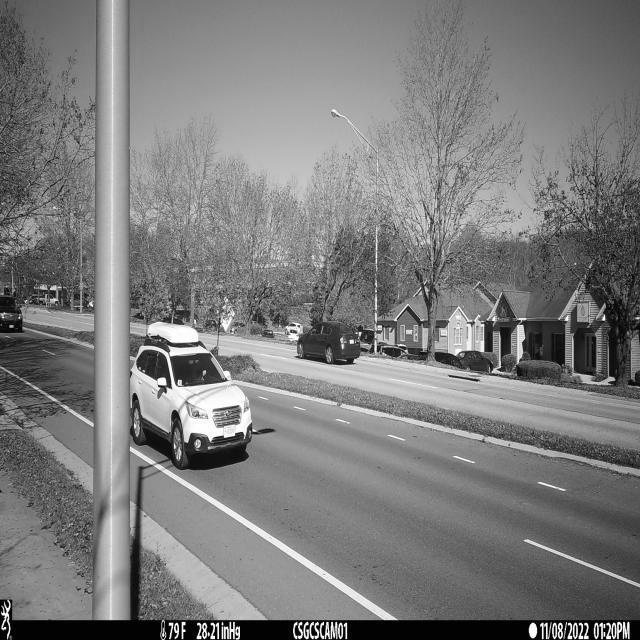SUV: (131, 323, 253, 470)
